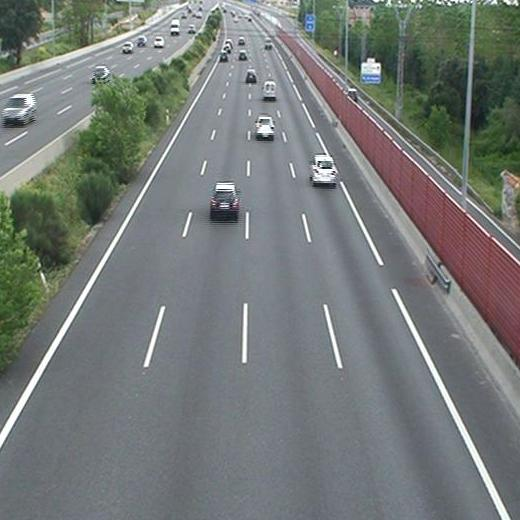car: (210, 184, 238, 216), (309, 156, 336, 182), (255, 116, 275, 137), (245, 69, 256, 81), (265, 37, 274, 50), (237, 37, 247, 45), (219, 52, 227, 61), (238, 50, 246, 58)
van: (263, 80, 276, 99)
